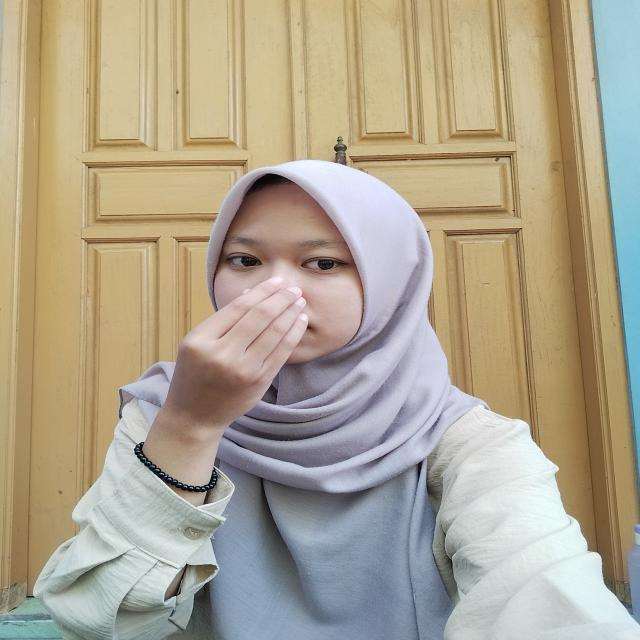bau: (146, 263, 319, 411)
